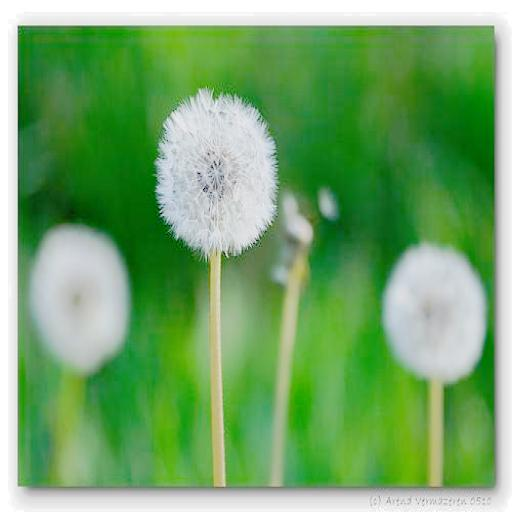dandelion: (158, 94, 274, 257)
